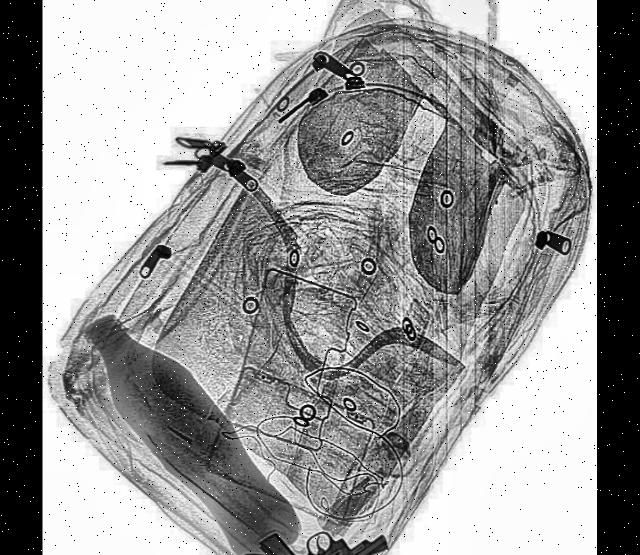Gun: (263, 499, 379, 555)
